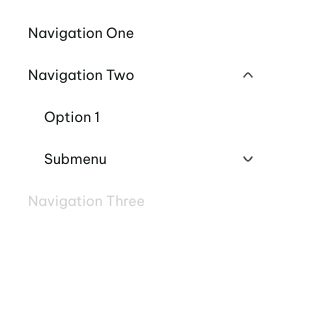
Test case: Navigation - vertical › accordion mode keeps ancestors open when a nested submenu is expanded
Click the button "Submenu" at (75, 159), box [12,138,272,180]
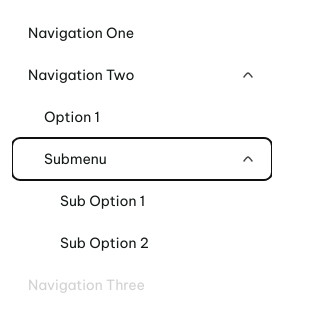
Result: the button "Submenu" is expanded at [12,138,272,180]
Result: the button "Sub Option 1" is shown at [12,180,272,222]
